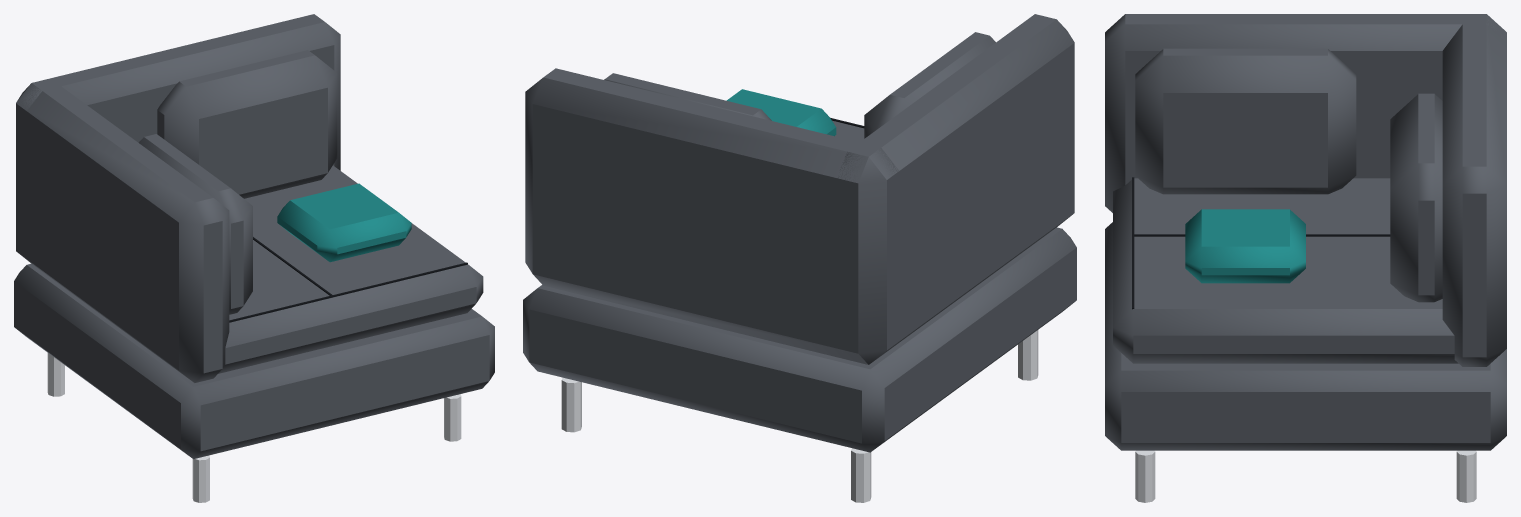
The model's file is couch_corner_couch_segment.glb.
3 views of the same model, side by side, from view 1: azimuth 30°, elevation 25°; view 2: azimuth 150°, elevation 25°; view 3: azimuth 270°, elevation 25° (orthographic). The views are drawn at different scales.
Parts seen in each view (by area): view 1: couch_corner_couch_segment; view 2: couch_corner_couch_segment; view 3: couch_corner_couch_segment.
Boxes of the visible parts, box(x1,y1,x2,y2) form: couch_corner_couch_segment: box(14, 14, 494, 502); couch_corner_couch_segment: box(523, 14, 1076, 502); couch_corner_couch_segment: box(1105, 14, 1506, 502).
Bounding box in the file's own units: 1 × 0.935 × 1.
